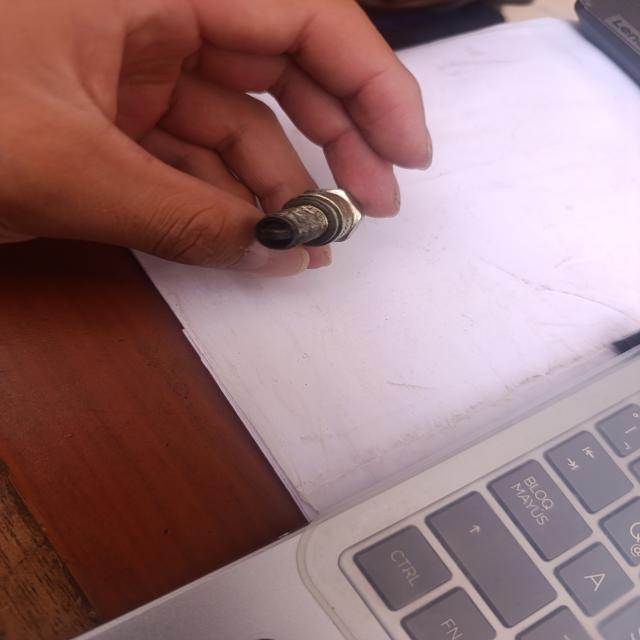bujia: (255, 189, 364, 250)
